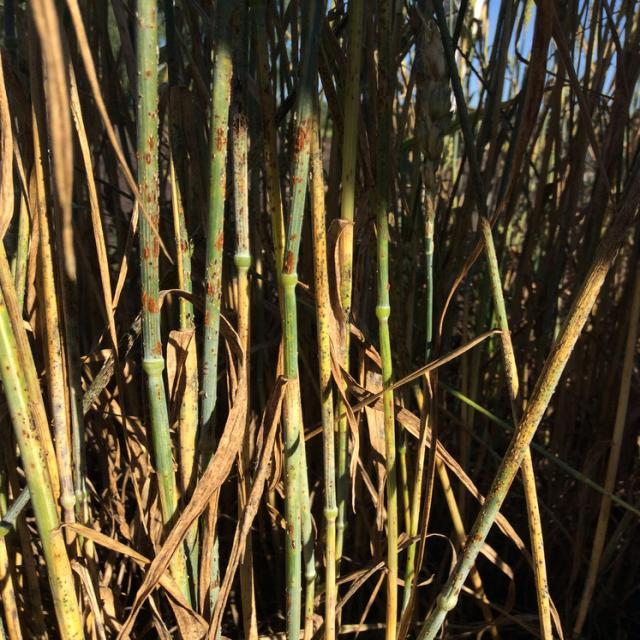wheat-stemrust: (417, 256, 611, 640), (0, 247, 84, 640), (203, 5, 242, 417), (278, 78, 316, 382), (134, 3, 165, 366), (312, 132, 339, 516)
